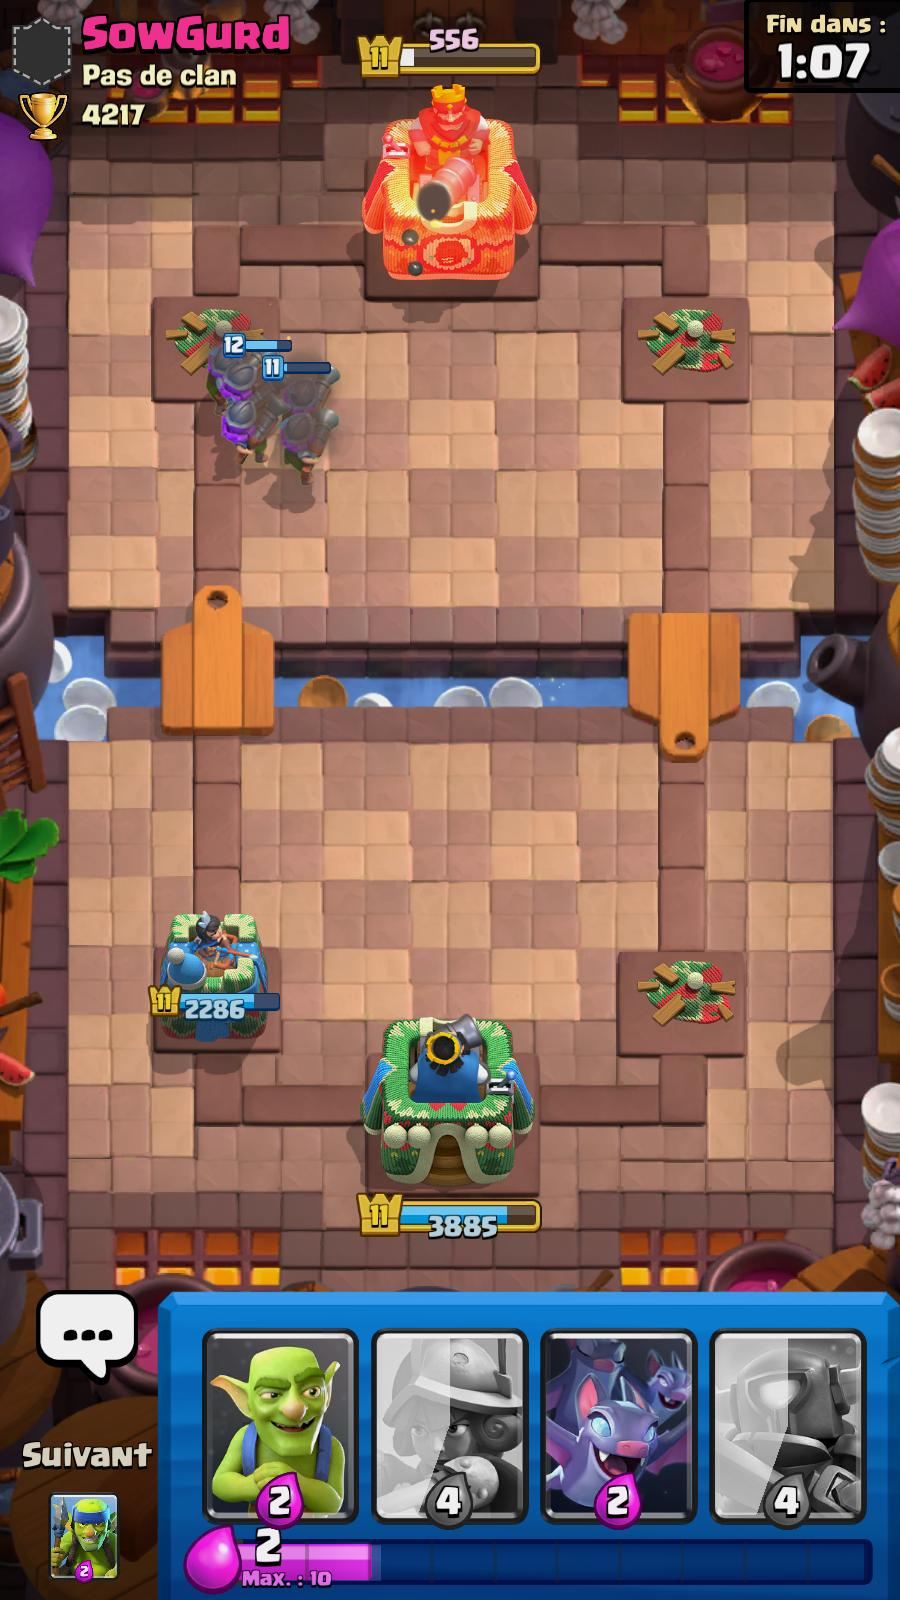mousquetaire: (282, 404, 334, 491), (226, 399, 279, 471), (284, 357, 341, 420), (220, 360, 282, 409), (203, 338, 242, 403)
